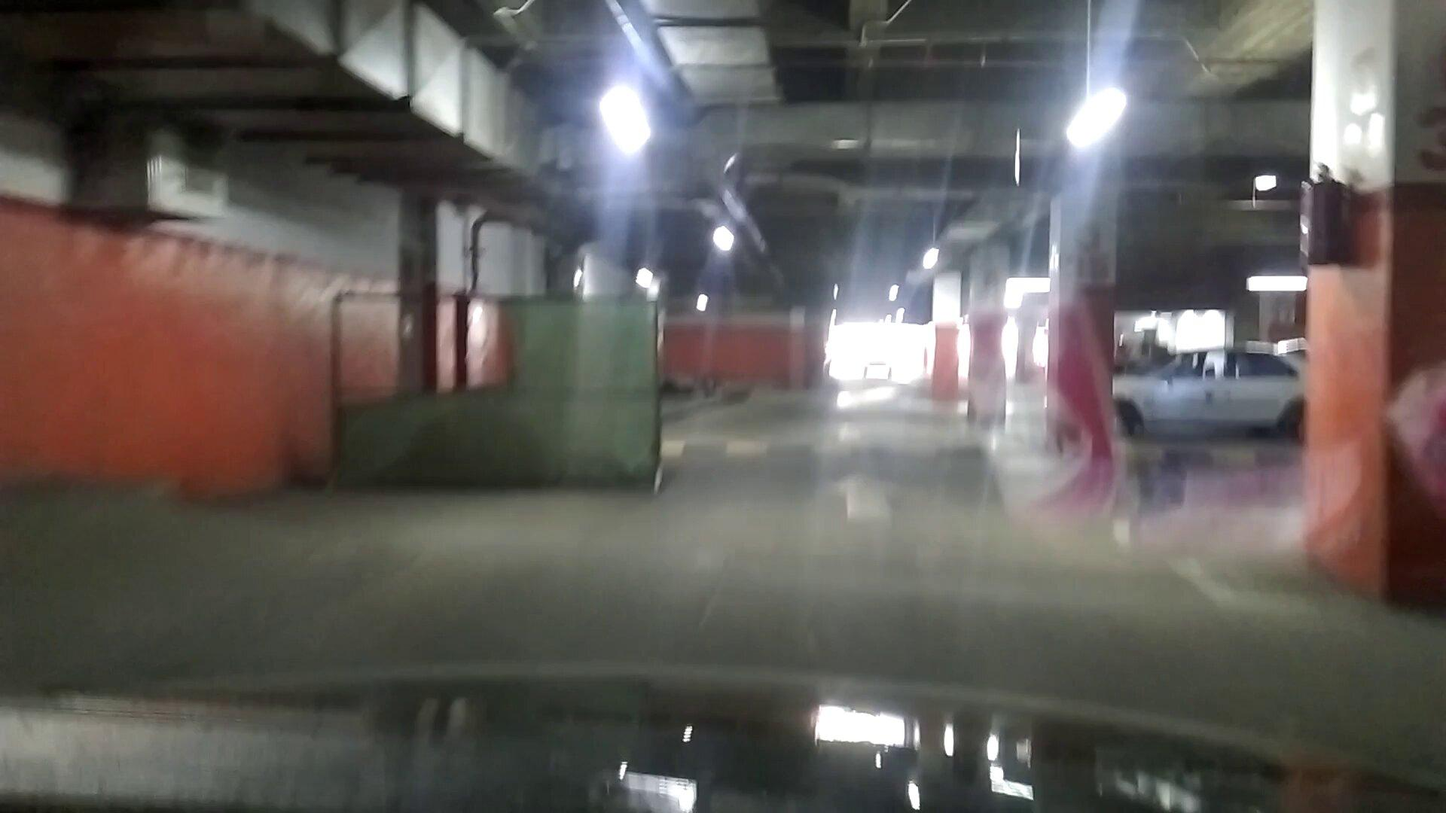Bump: (653, 442, 1058, 459)
